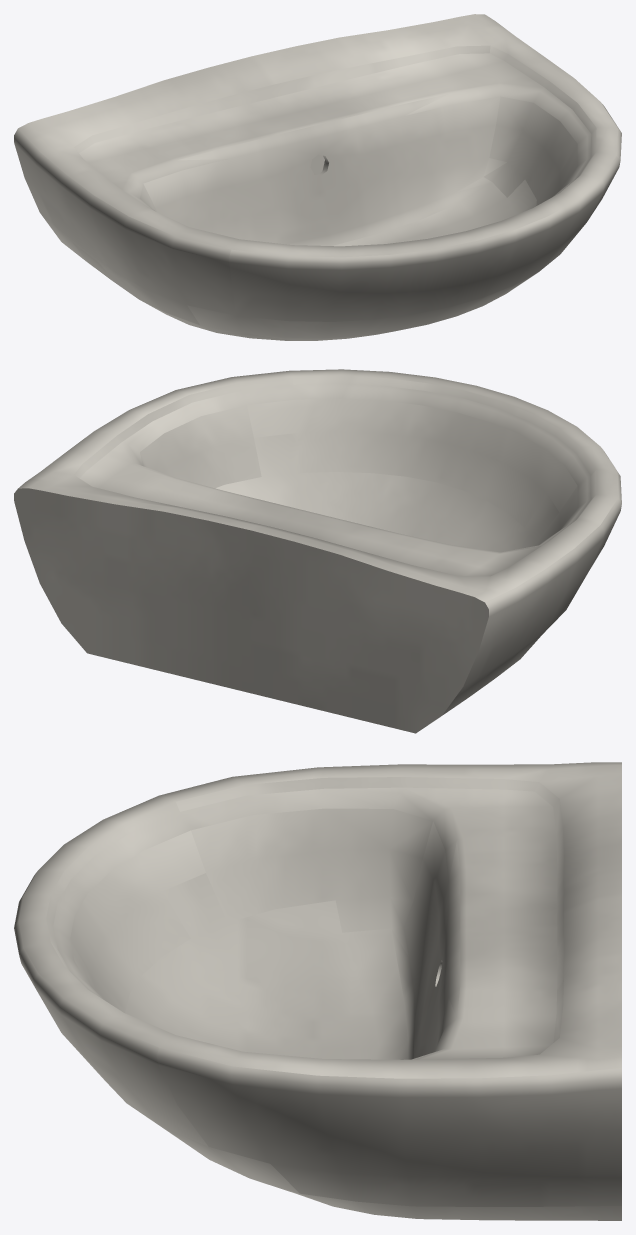
The model's file is sink.glb.
The picture shows the model from 3 angles, top to bottom: view 1: azimuth 30°, elevation 25°; view 2: azimuth 150°, elevation 25°; view 3: azimuth 270°, elevation 25°; orthographic projection. The views are drawn at different scales.
Visible parts, largest first — view 1: sink; view 2: sink; view 3: sink.
Part boxes in pixels (x1,y1,x2,y2): sink: [14, 14, 621, 340]; sink: [14, 369, 621, 733]; sink: [14, 762, 621, 1220].
Bounding box in the file's own units: 0.6247 × 0.1994 × 0.5029.
Materials: 1 (1 with a texture image).
